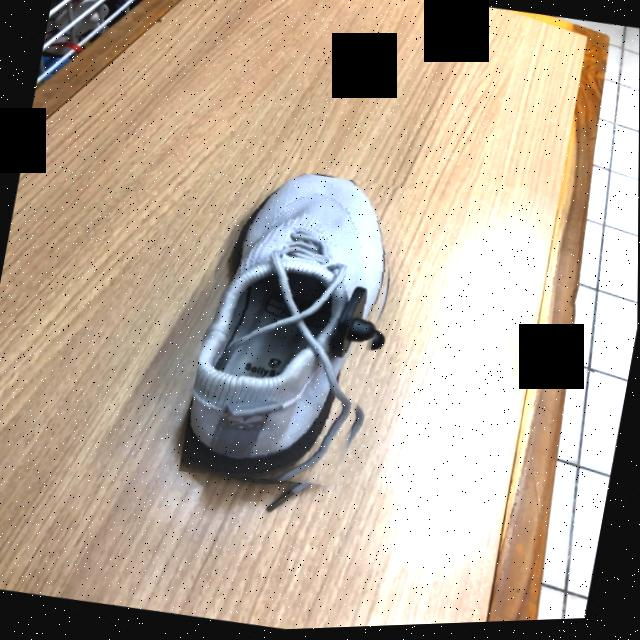shoe: (183, 176, 387, 483)
